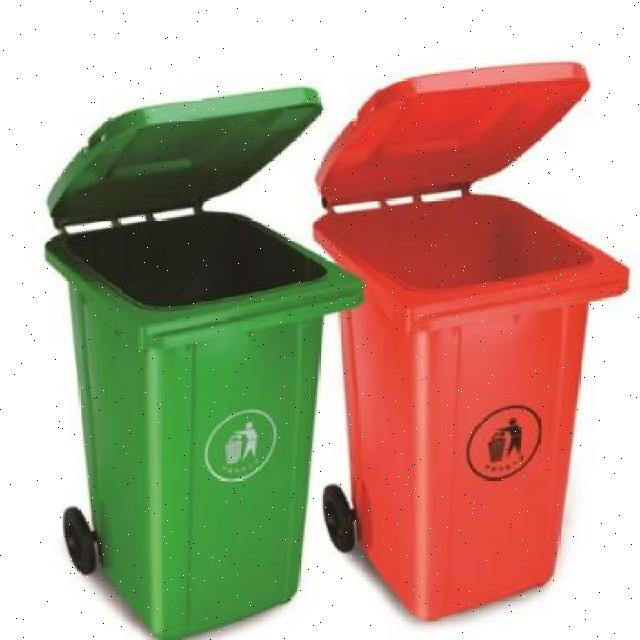garbage container: (36, 77, 372, 638), (309, 55, 633, 634)
